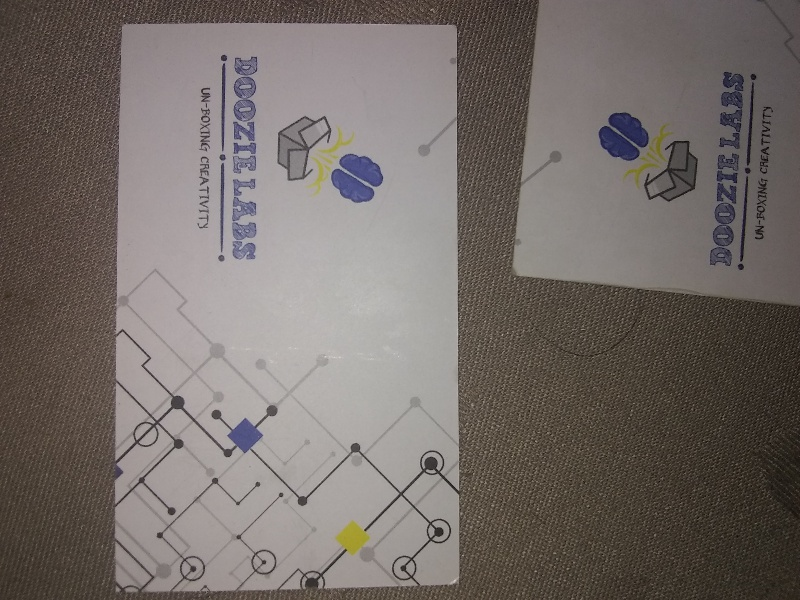back: (110, 18, 465, 590)
